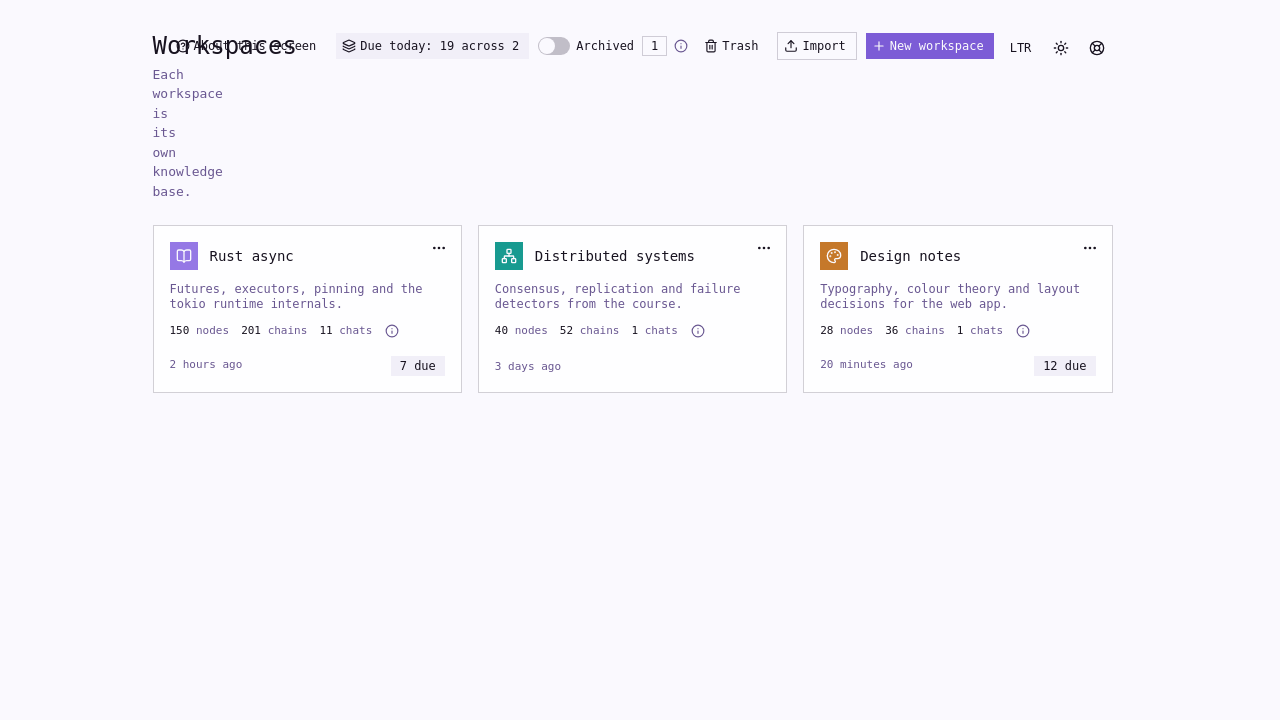
Test: delete confirmation › Cancel leaves the workspace in place
This screenshot has width=1280, height=720.
Click the button named "Actions for Rust async" at {"x": 439, "y": 248}, box [425,234,453,262]
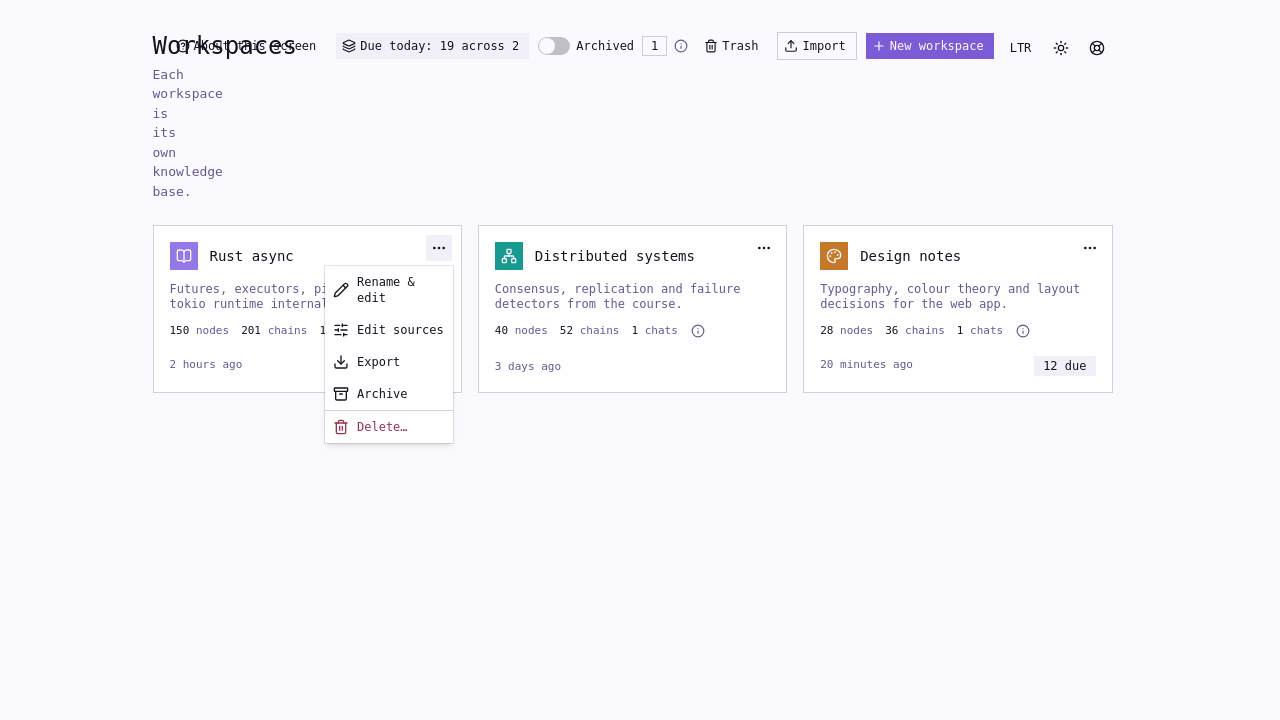
Click the menu item "Delete…" at {"x": 370, "y": 427}, box [333,419,408,435]
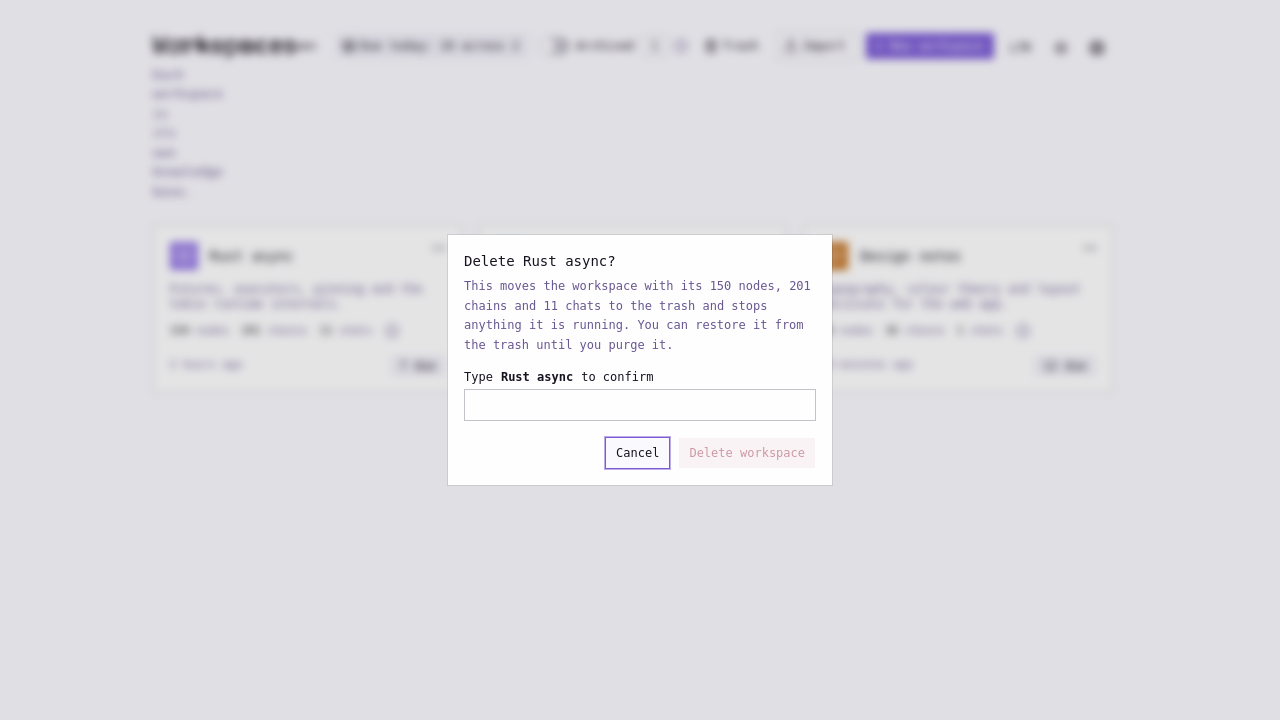
Click the button with test id "delete-cancel" at {"x": 638, "y": 453}, box [605,437,670,469]
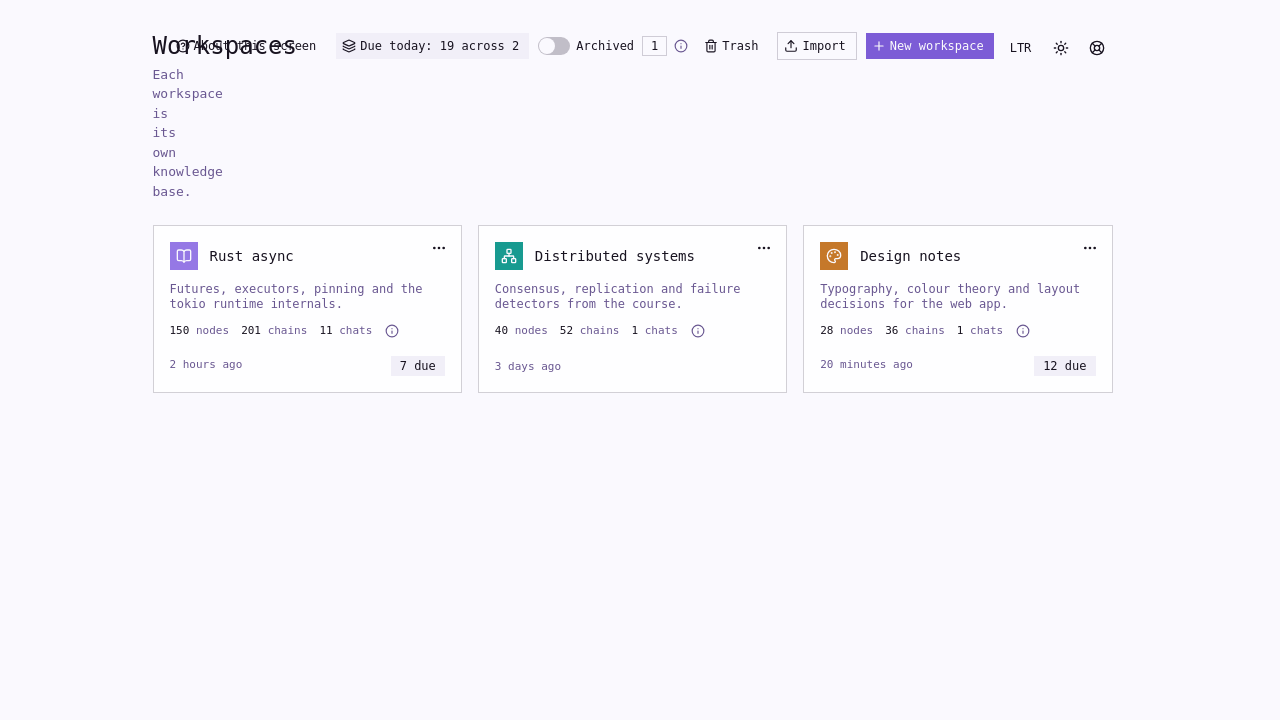
Expected: the dialog with test id "delete-dialog" is gone
